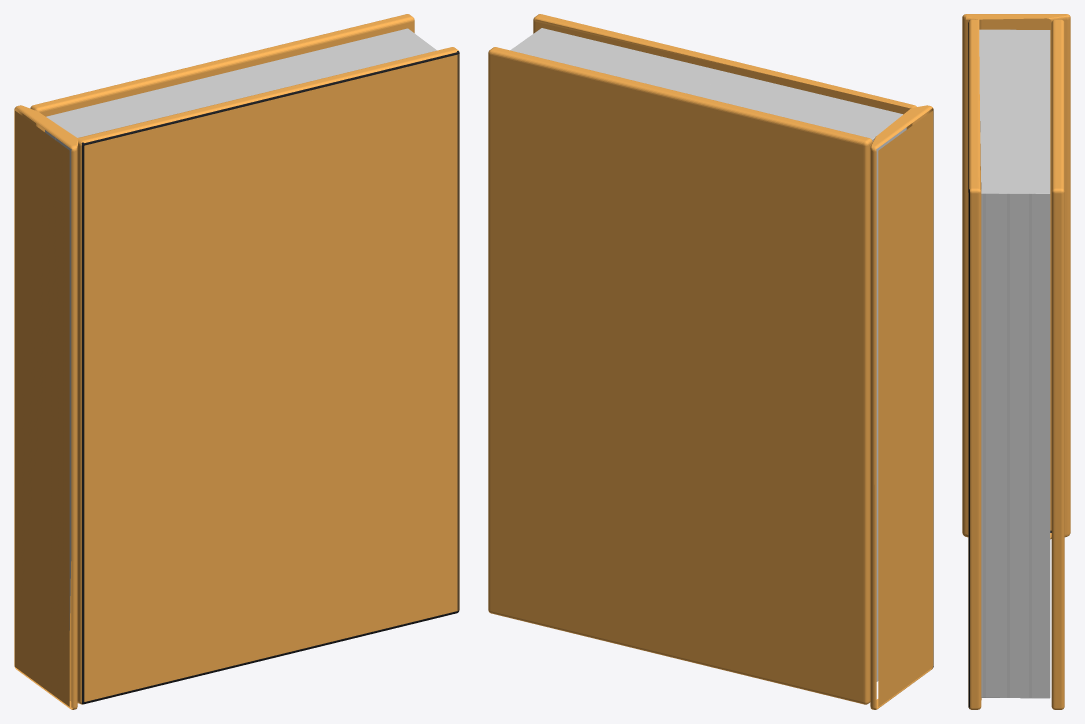
Rendered from book.glb.
3 renders of one model, left to right at view 1: azimuth 30°, elevation 25°; view 2: azimuth 150°, elevation 25°; view 3: azimuth 270°, elevation 25°, orthographic. The views are drawn at different scales.
Visible parts, largest first — view 1: BackCover, Page; view 2: BackCover, Page; view 3: Page, BackCover.
Part boxes in pixels (x1,y1,x2,y2): BackCover: (14,14,459,709); Page: (45,28,436,630); BackCover: (488,14,933,709); Page: (510,28,906,681); Page: (979,29,1050,698); BackCover: (962,14,1070,709).
Size of the model in its own units: 3.22 by 4.42 by 0.8333.
